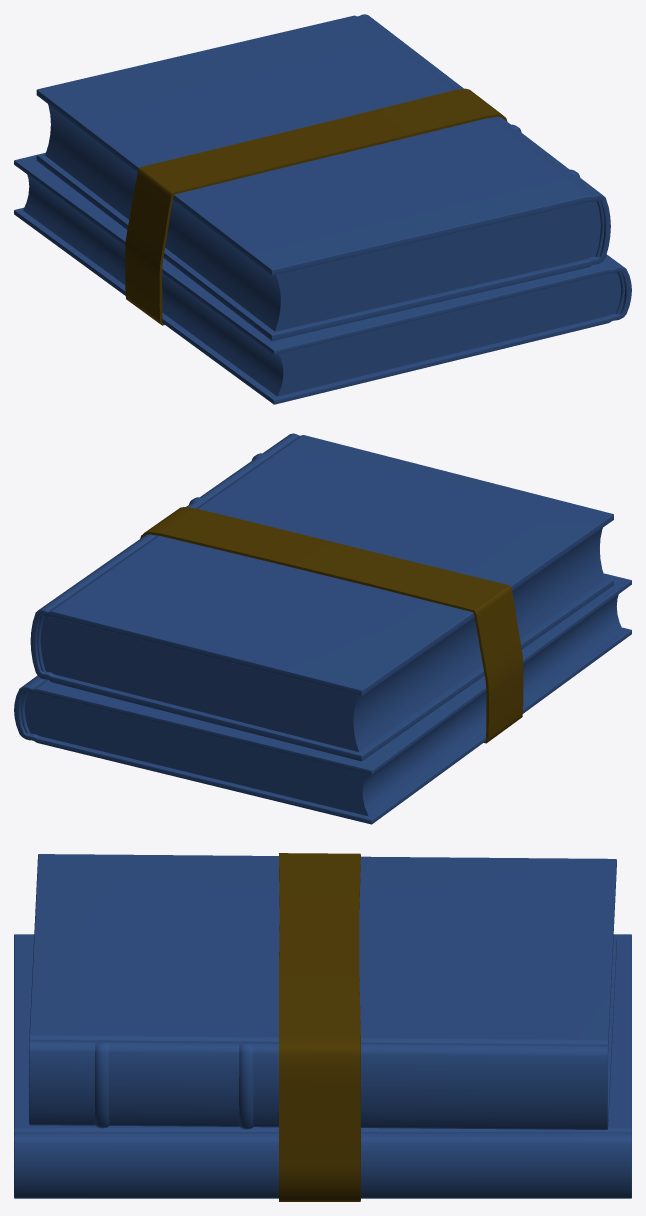
File: BoundBooks_Model.fbx
3 views of the same model, one above another, from view 1: azimuth 30°, elevation 25°; view 2: azimuth 150°, elevation 25°; view 3: azimuth 270°, elevation 25° (orthographic). The views are drawn at different scales.
Visible parts, largest first — view 1: books_geo, strap_geo; view 2: books_geo, strap_geo; view 3: books_geo, strap_geo.
Boxes of the visible parts, x1,y1,x2,y2 form: books_geo: (14, 14, 631, 404); strap_geo: (125, 88, 507, 325); books_geo: (14, 433, 631, 824); strap_geo: (140, 507, 523, 743); books_geo: (14, 854, 631, 1198); strap_geo: (279, 853, 360, 1201).
Size of the model in its own units: 21.63 by 7.44 by 26.83.
